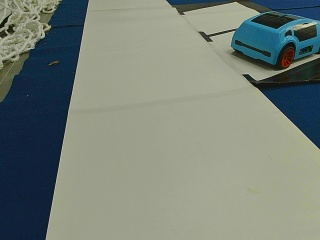car: (230, 10, 319, 67)
